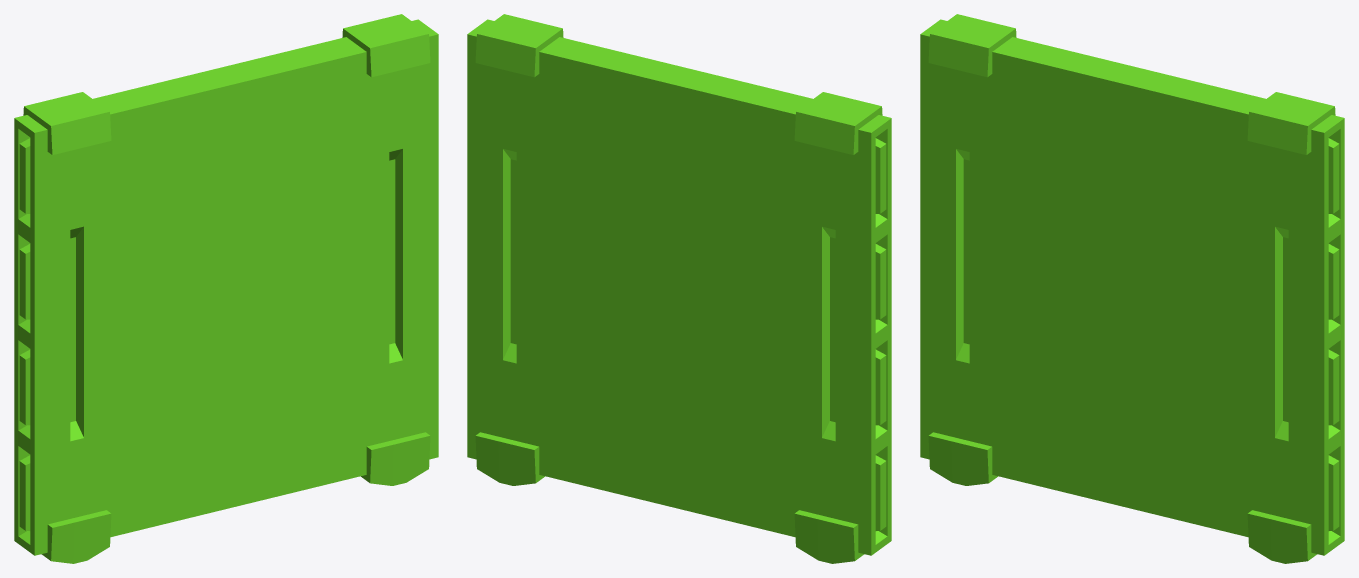
Rendered from Wall_Panel_1.fbx.
The picture shows the model from 3 angles, left to right: view 1: azimuth 30°, elevation 25°; view 2: azimuth 150°, elevation 25°; view 3: azimuth 330°, elevation 25°; orthographic projection.
Parts seen in each view (by area): view 1: Wall_Panel_1; view 2: Wall_Panel_1; view 3: Wall_Panel_1.
Boxes of the visible parts, left/top/right/bottom form: Wall_Panel_1: left=14, top=14, right=438, bottom=563; Wall_Panel_1: left=467, top=14, right=891, bottom=563; Wall_Panel_1: left=920, top=14, right=1344, bottom=563.
Size of the model in its own units: 387 by 402 by 49.2.
